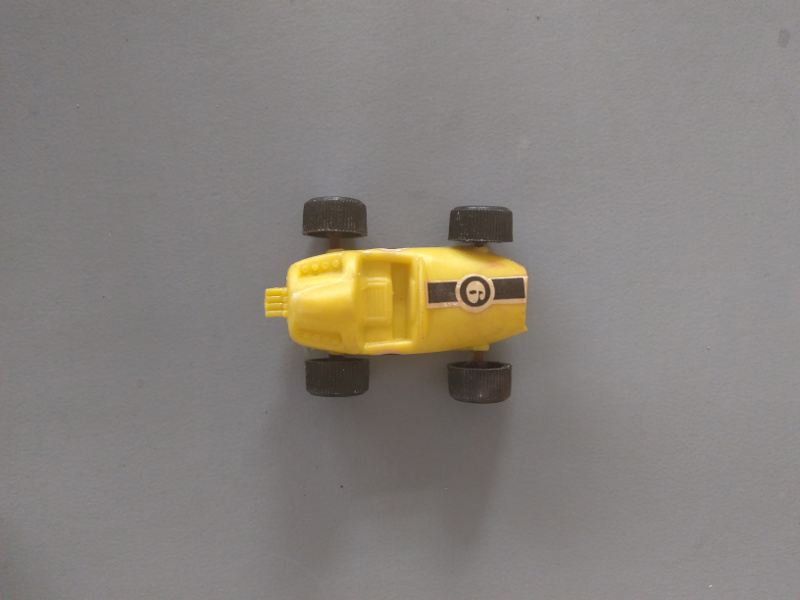amarillo: (265, 199, 536, 395)
